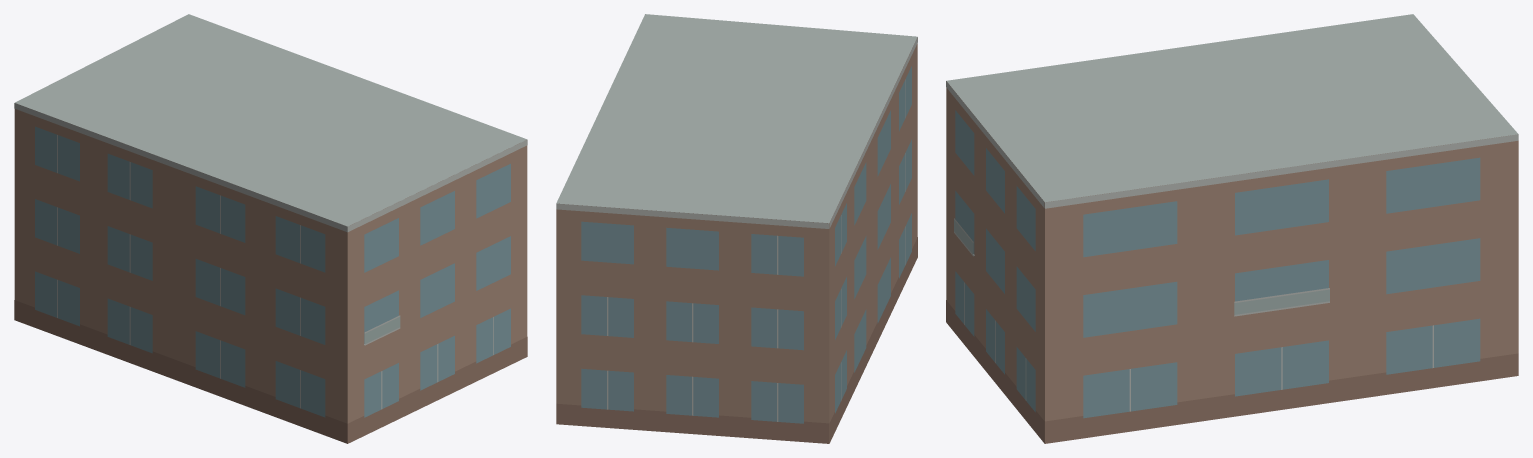
The model's file is survey-upis-32467238.glb.
3 renders of one model, left to right at view 1: azimuth 30°, elevation 25°; view 2: azimuth 150°, elevation 25°; view 3: azimuth 270°, elevation 25°, orthographic. The views are drawn at different scales.
Visible parts, largest first — view 1: survey-upis-32467238.tmp; view 2: survey-upis-32467238.tmp; view 3: survey-upis-32467238.tmp.
Boxes of the visible parts, x1=… form: survey-upis-32467238.tmp: x1=14, y1=14, x2=527, y2=443; survey-upis-32467238.tmp: x1=556, y1=14, x2=917, y2=443; survey-upis-32467238.tmp: x1=946, y1=14, x2=1518, y2=443.
Size of the model in its own units: 15.31 by 9.15 by 19.66.
